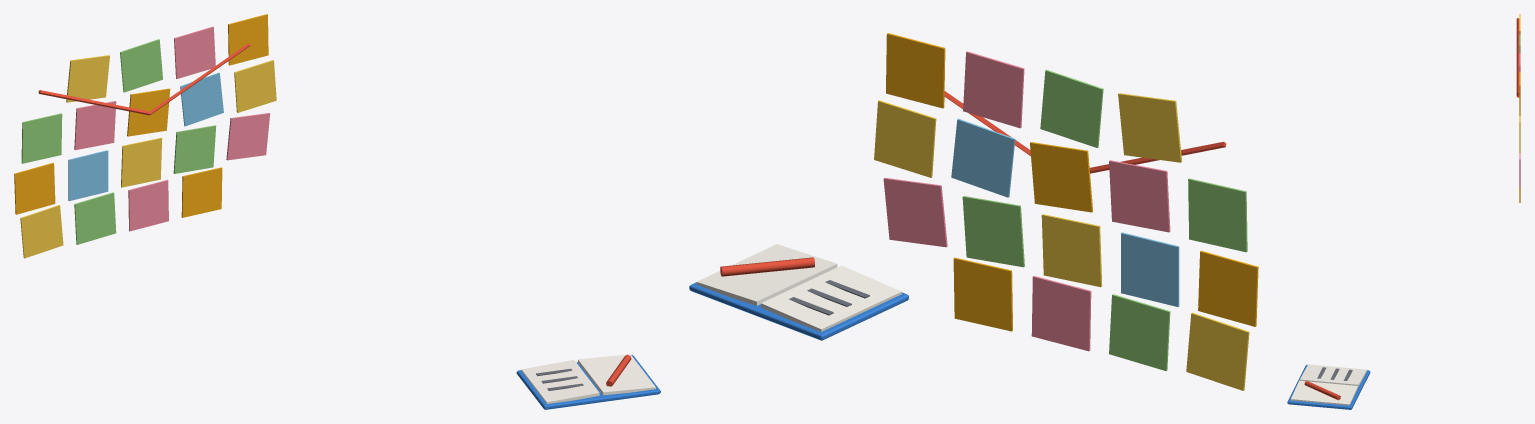
File: station_intake_ausstattung_1_2.glb
3 views of the same model, side by side, from view 1: azimuth 30°, elevation 25°; view 2: azimuth 150°, elevation 25°; view 3: azimuth 270°, elevation 25° (orthographic). The views are drawn at different scales.
Visible parts, largest first — view 1: station_intake_ausstattung_1_2; view 2: station_intake_ausstattung_1_2; view 3: station_intake_ausstattung_1_2.
Part boxes in pixels (x1=…): station_intake_ausstattung_1_2: x1=14, y1=14, x2=660, y2=409; station_intake_ausstattung_1_2: x1=689, y1=33, x2=1258, y2=390; station_intake_ausstattung_1_2: x1=1287, y1=14, x2=1520, y2=409.
Bounding box in the file's own units: 1.42 × 0.8674 × 0.775.
